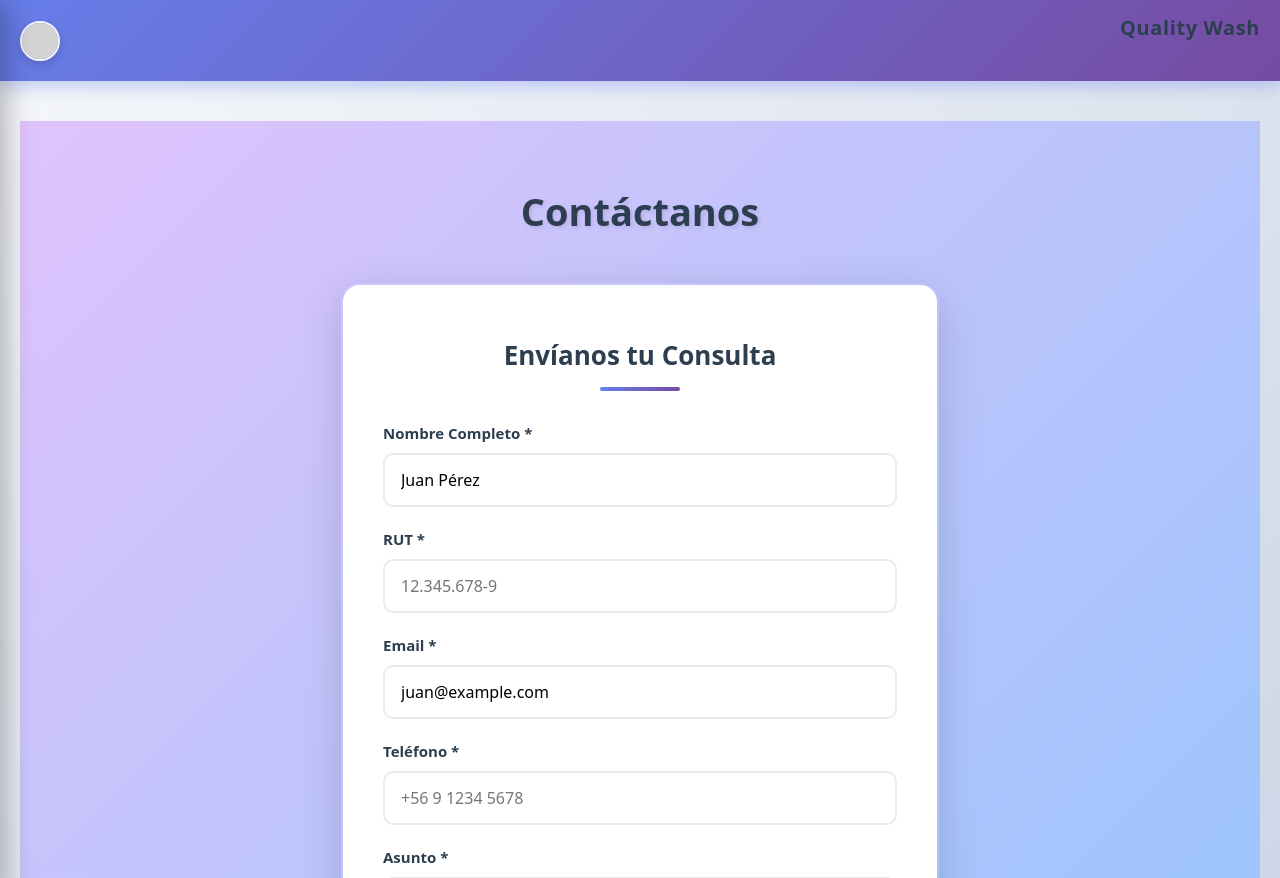
Scenario: Contacto Component › Validación de campos vacíos › muestra error cuando el email está vacío
The image size is (1280, 878).
Clear the field labelled "Email *" at (640, 692), box x1=383 y1=665 x2=897 y2=719
(page scrolled)
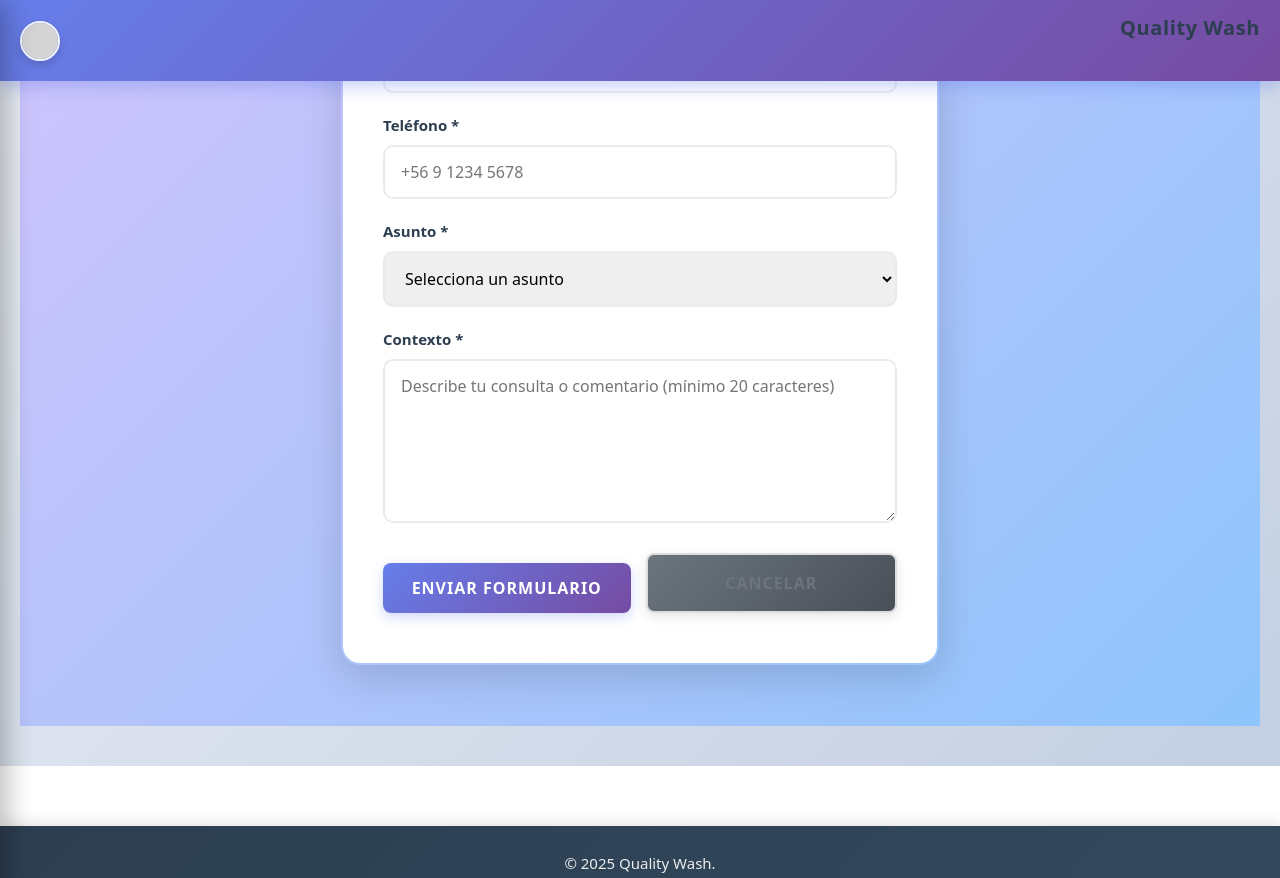
Click the button "Enviar Formulario" at (507, 588), box x1=383 y1=563 x2=630 y2=613
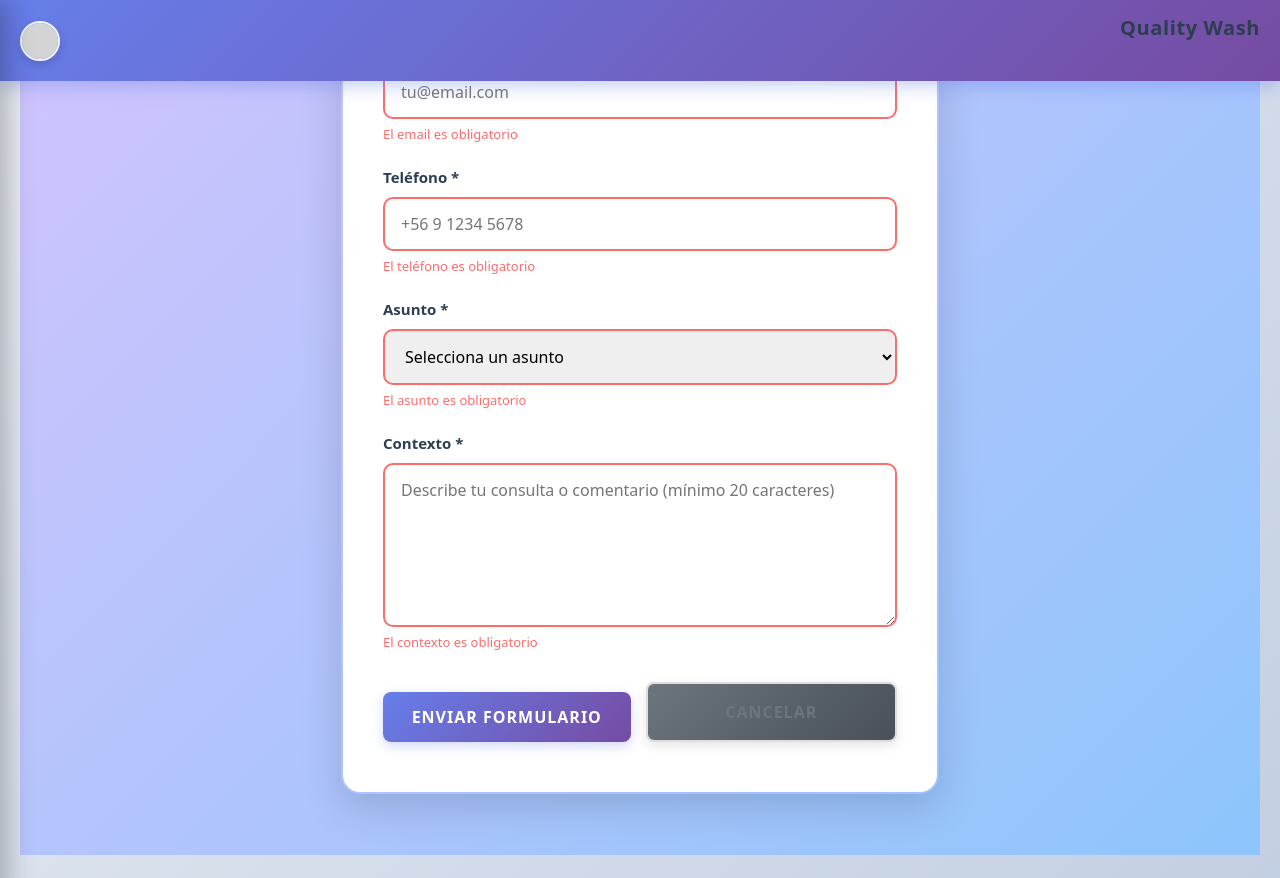
Check: the text "El email es obligatorio" is shown, box x1=383 y1=125 x2=518 y2=143
